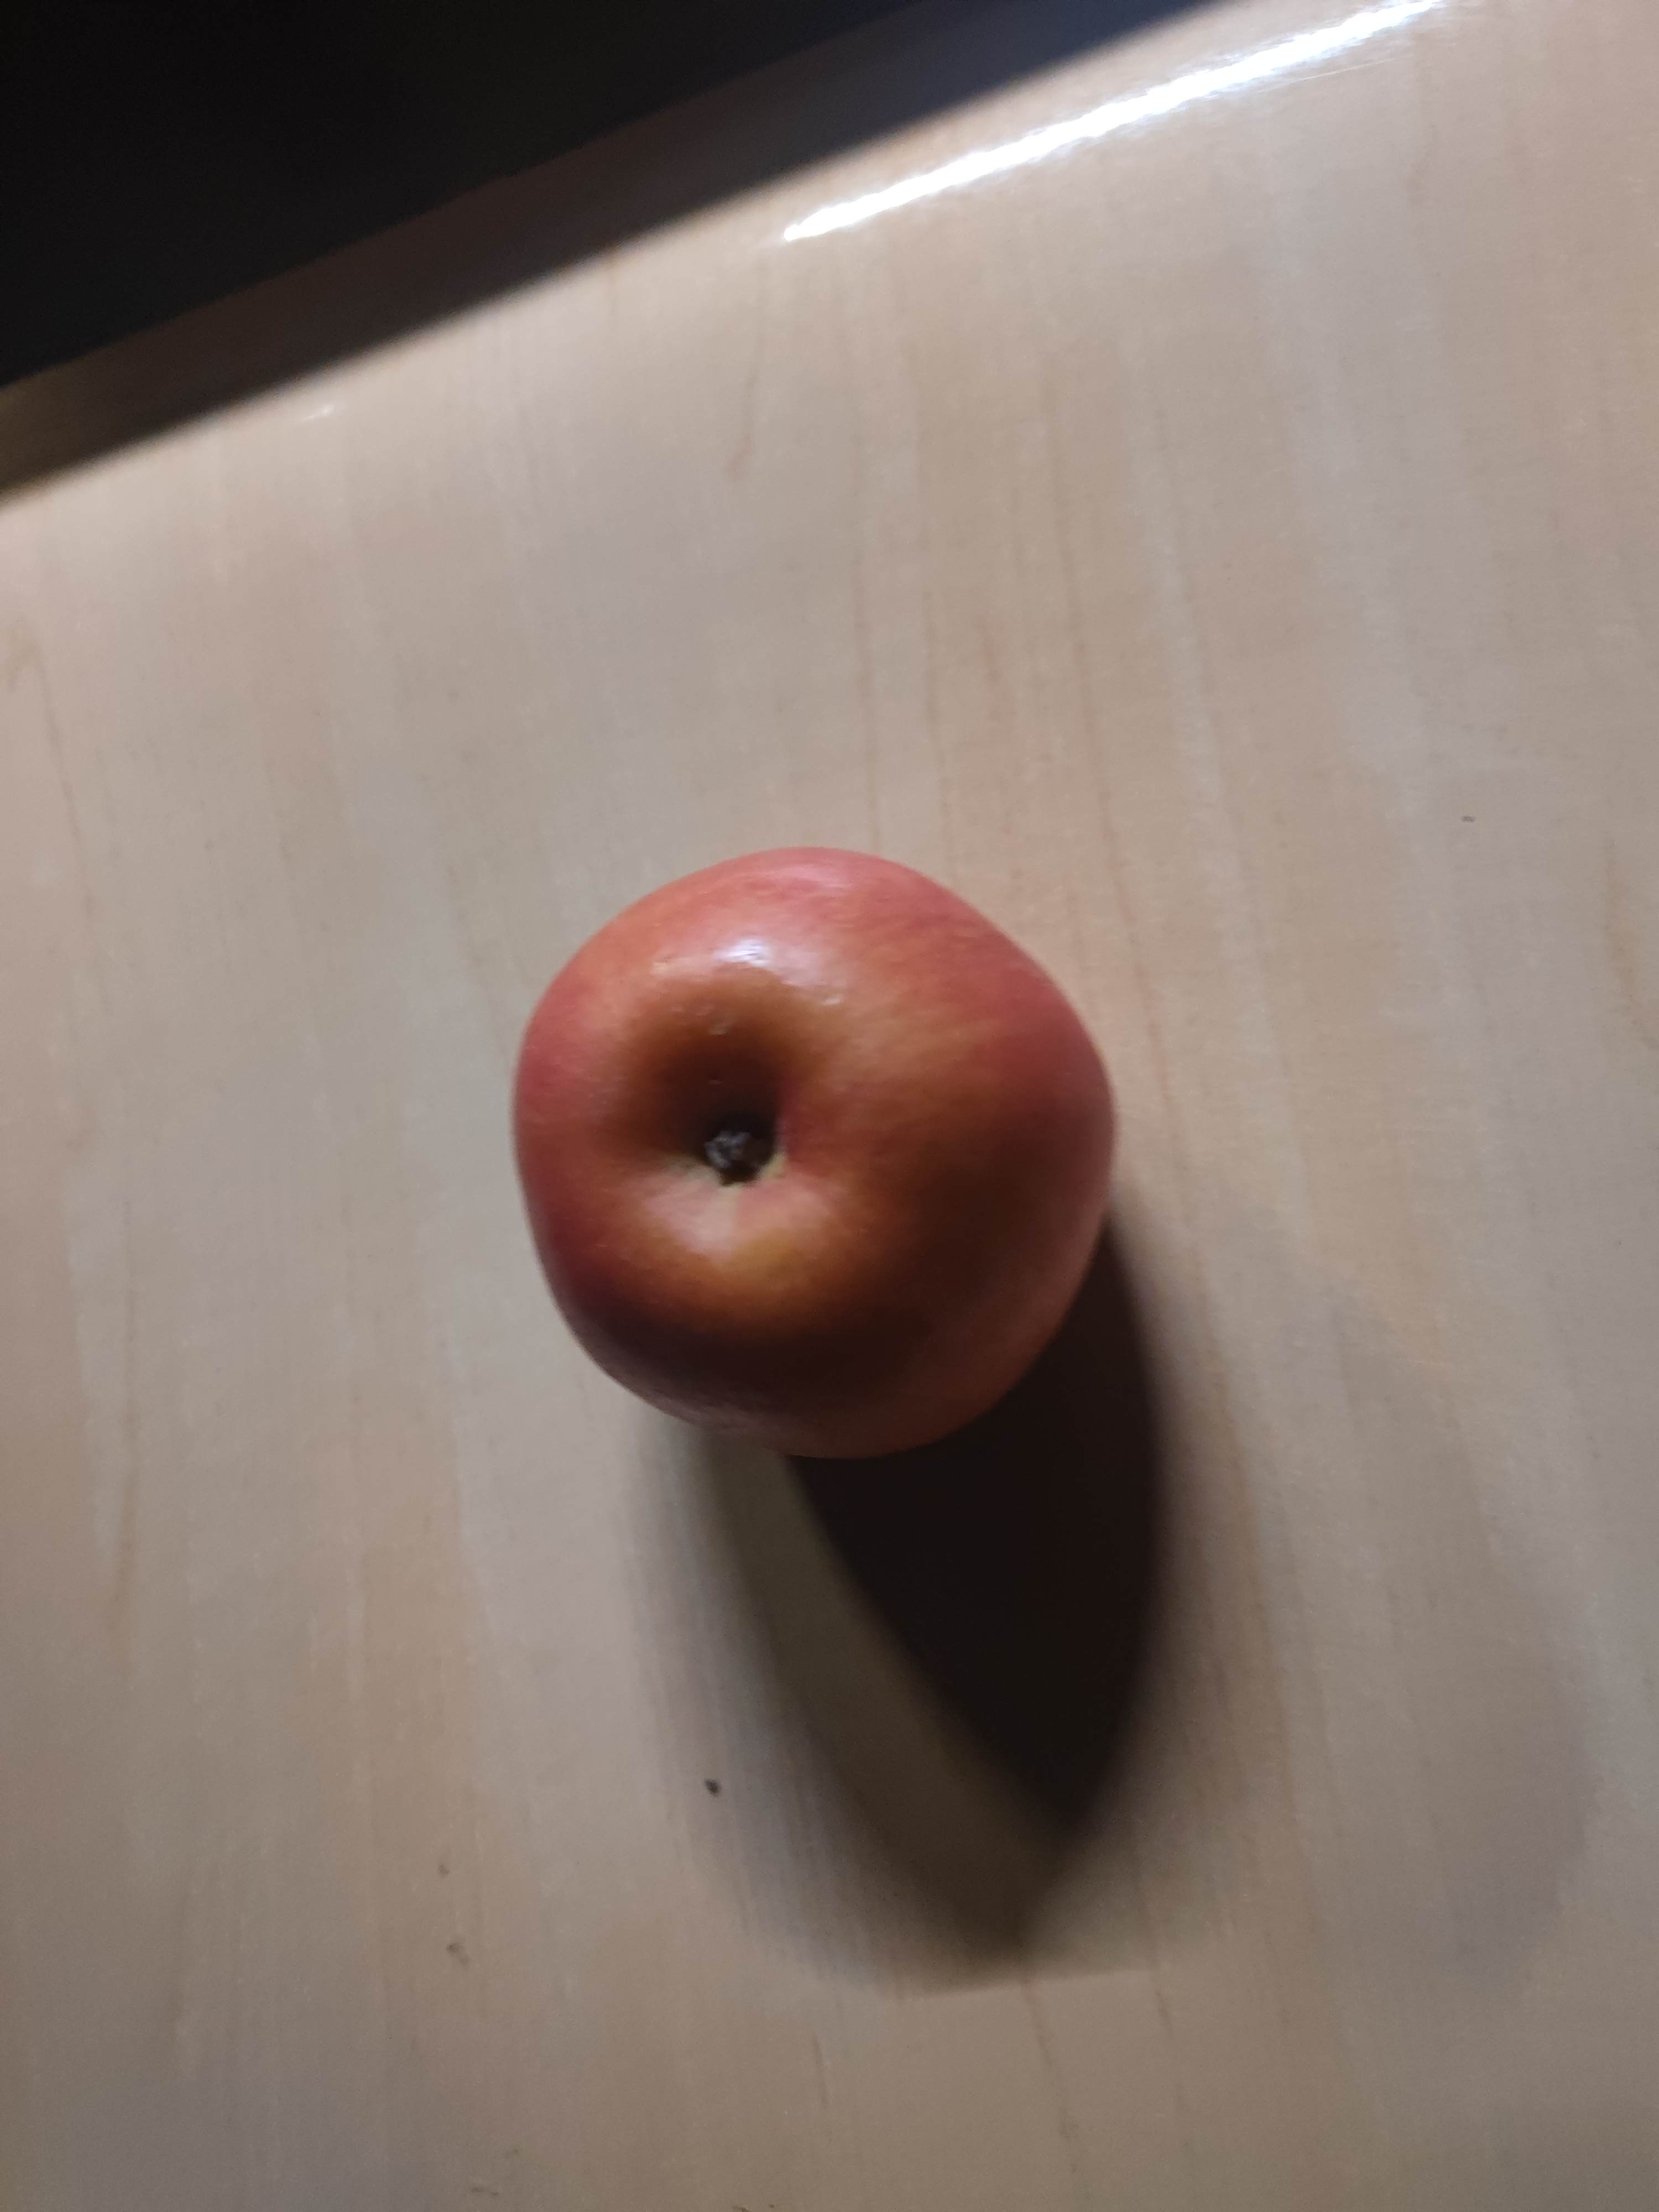apple: (512, 846, 1126, 1474)
